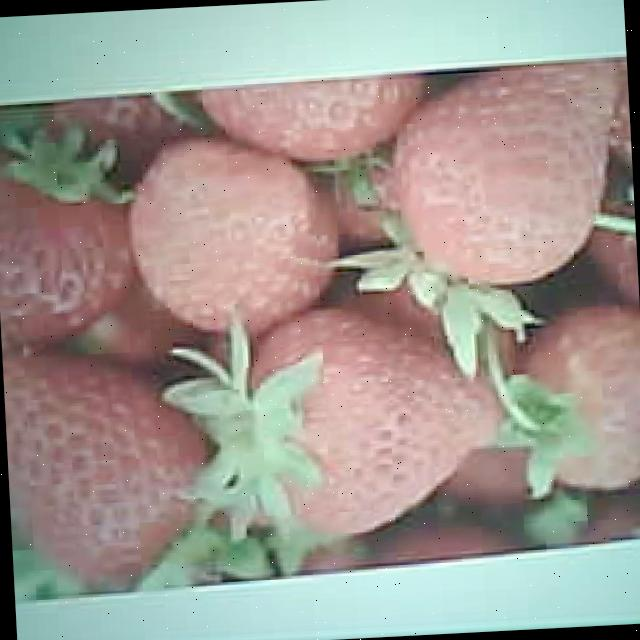strawberry: (240, 298, 506, 542), (387, 63, 628, 288), (2, 348, 216, 582)
